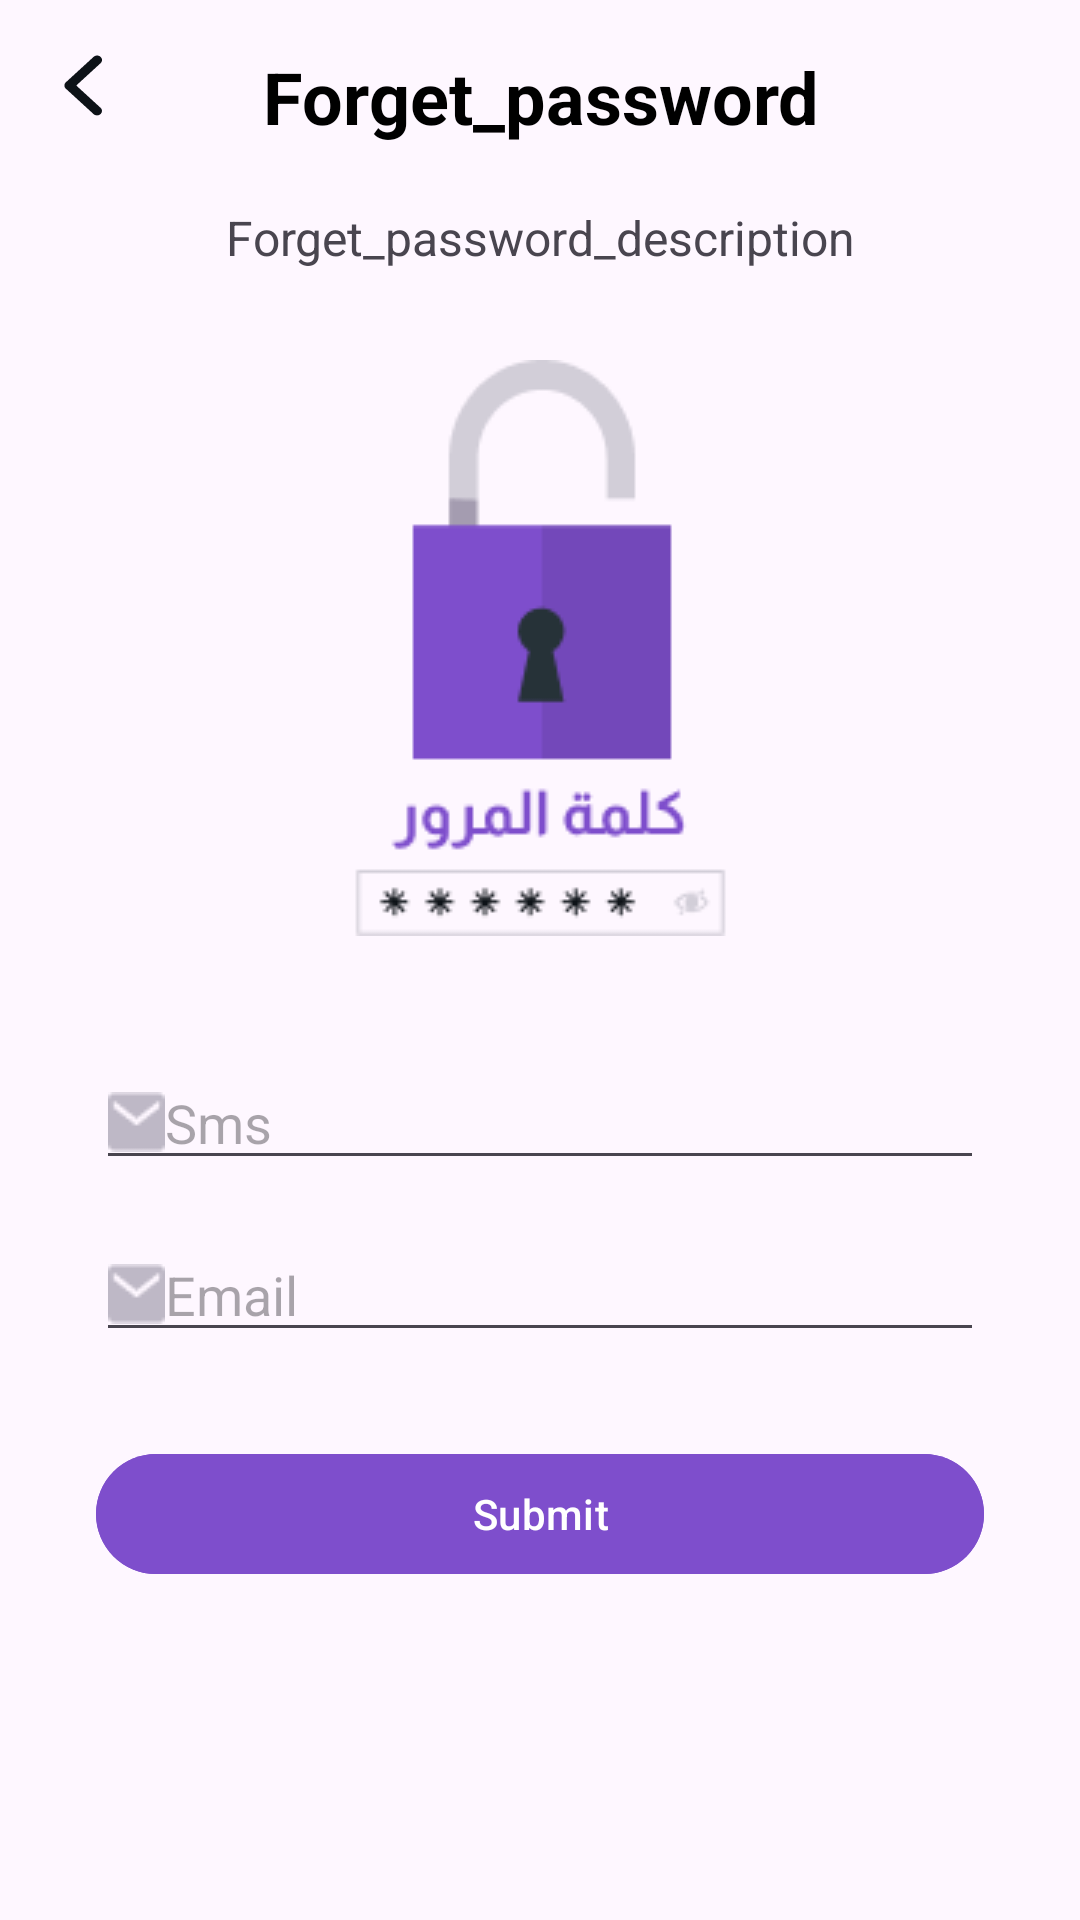

Point at icon controls on the screen. Image size 1080*1920, points as (x,y).
back: (83,85)
